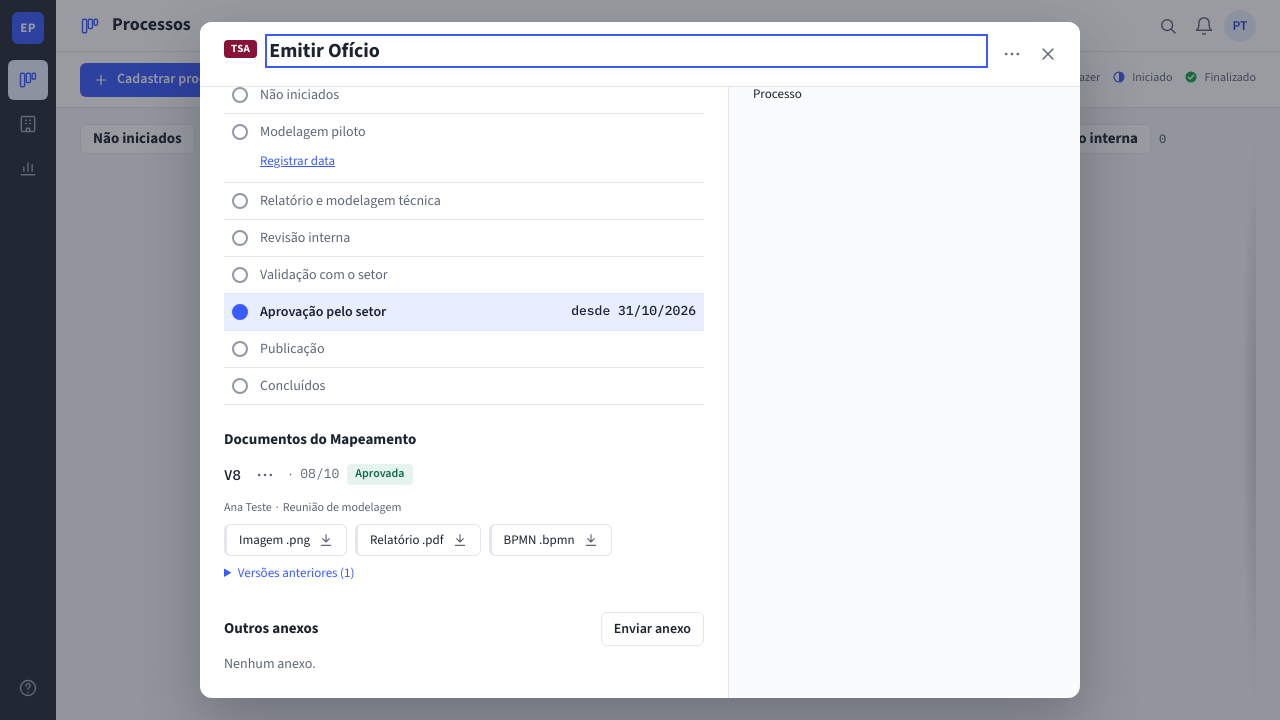
Scenario: a versão aprovada tem o selo "Aprovada" e nenhum [Substituir]; a anterior continua com o [Substituir]
The width and height of the screenshot is (1280, 720).
(page scrolled)
Check: the text "Aprovada" is shown, box [347,464,412,485]
Click the heading "Versões anteriores (1)": click(296, 573) [238,564,354,582]
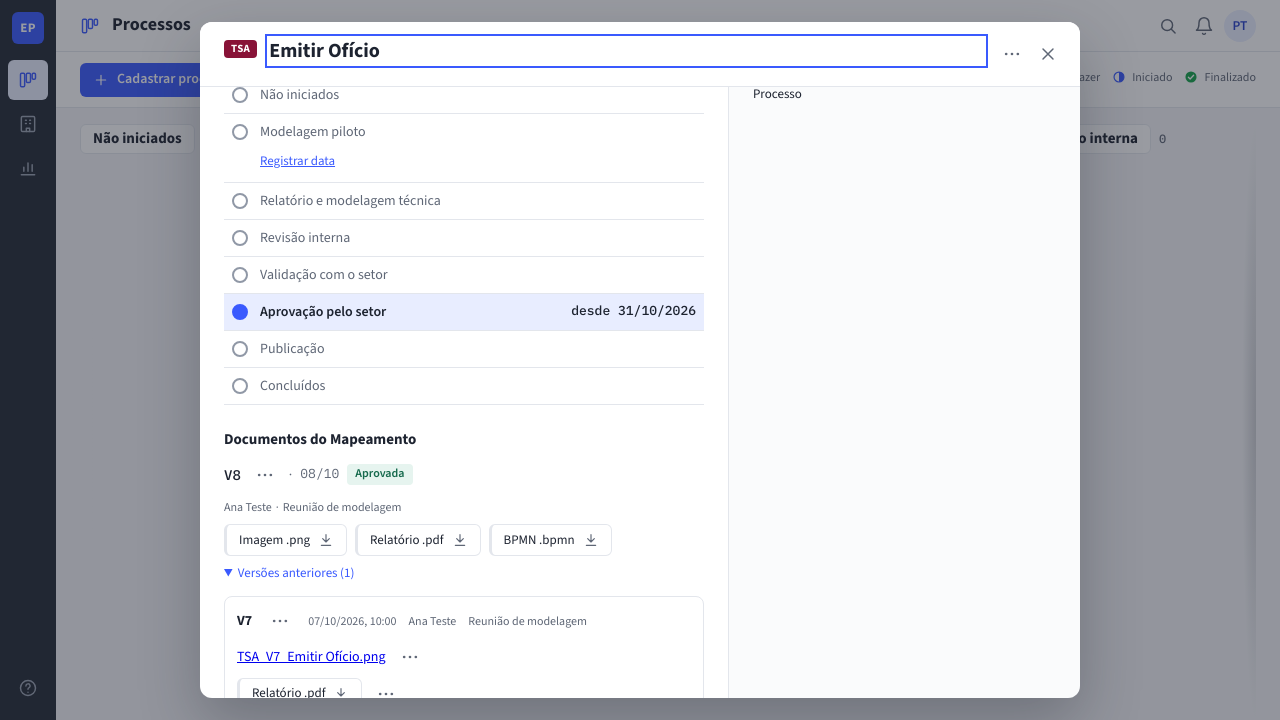
Check: the button named "Ações de " is shown, box [394,641,426,673]
